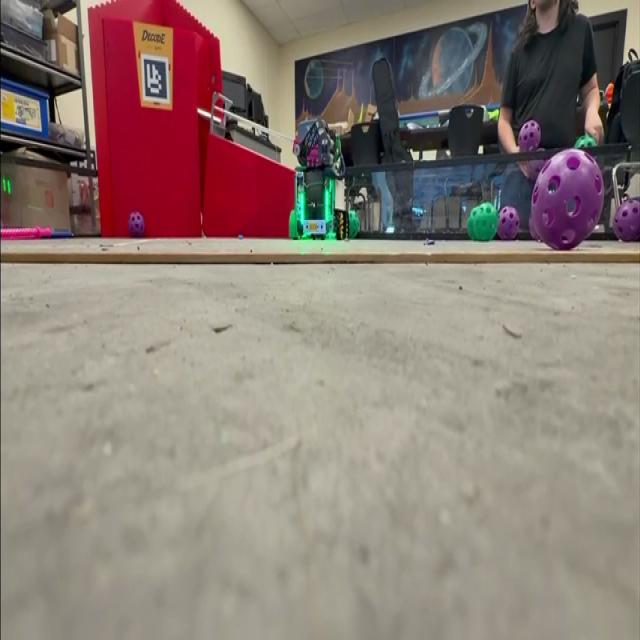artifact_green: (473, 203, 498, 241), (485, 204, 499, 241), (333, 210, 349, 239), (467, 207, 478, 239), (575, 134, 597, 149), (349, 210, 359, 238), (289, 210, 298, 238), (480, 203, 498, 215)
artifact_purple: (532, 148, 604, 250), (614, 200, 639, 242), (518, 120, 541, 151), (498, 207, 519, 239), (527, 159, 546, 181), (129, 212, 145, 238), (530, 216, 539, 241)
